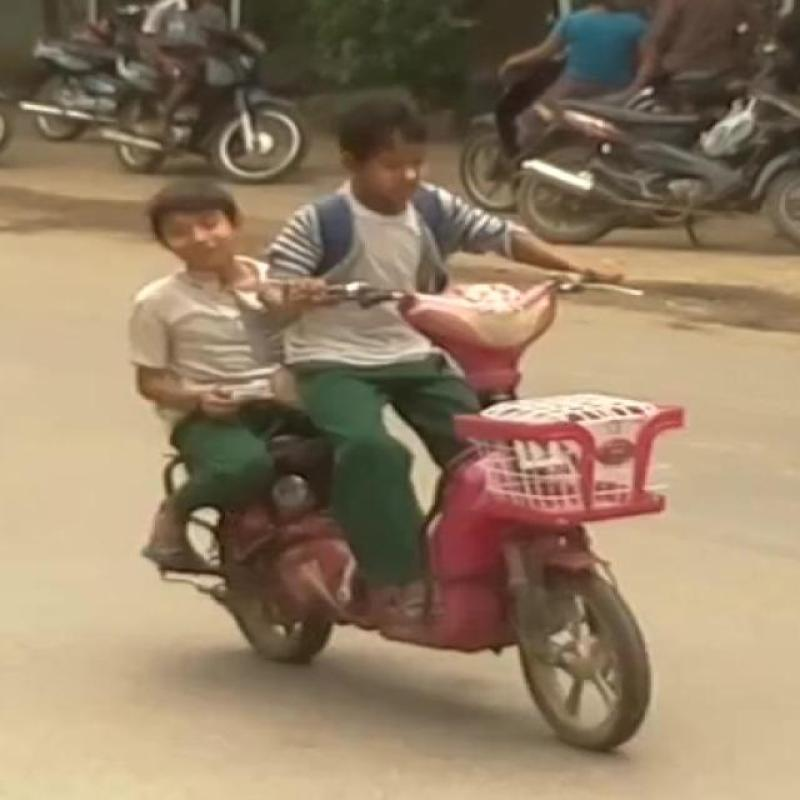nohelmet: (322, 97, 496, 213), (135, 148, 276, 276)
